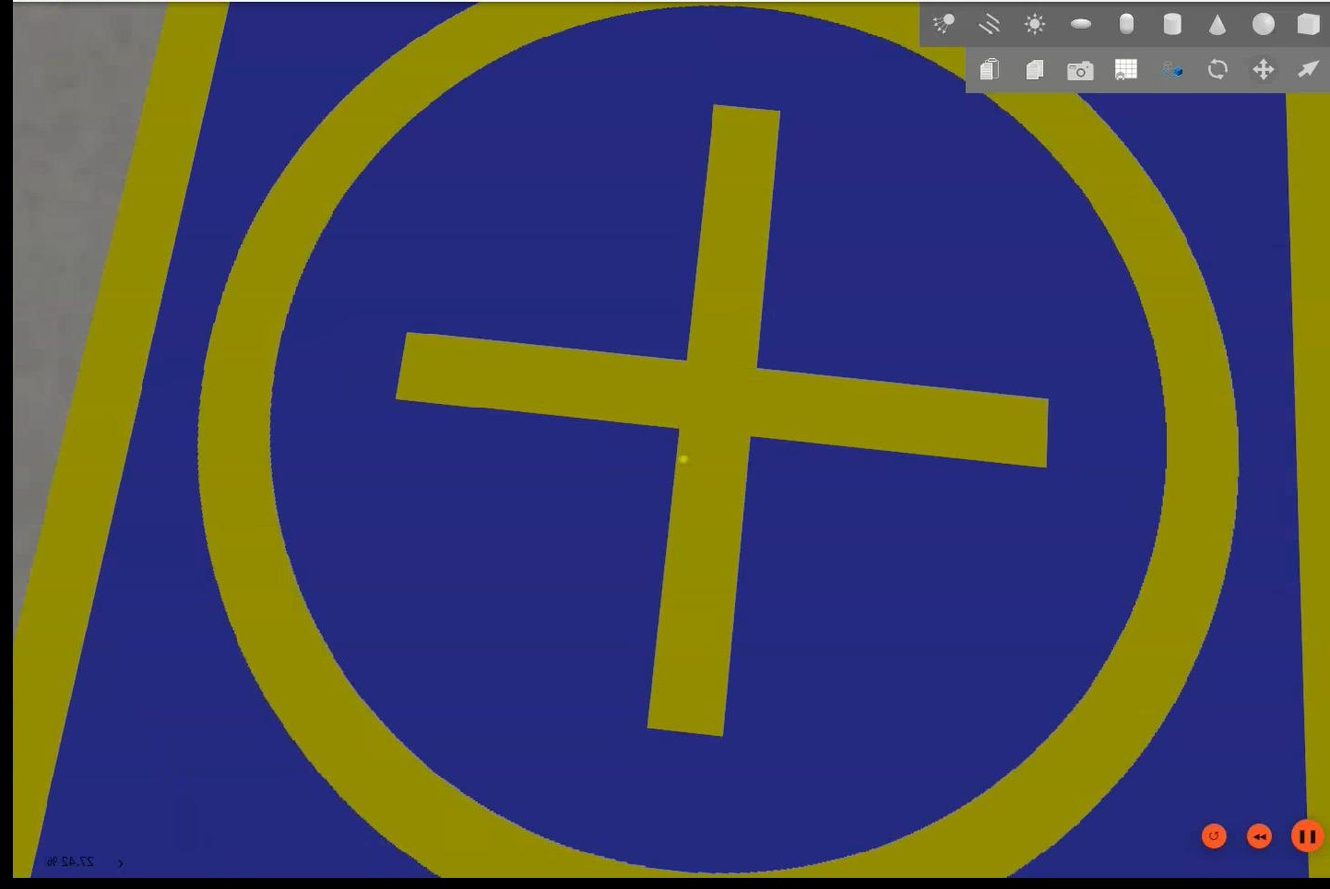small_base: (9, 4, 1301, 880)
